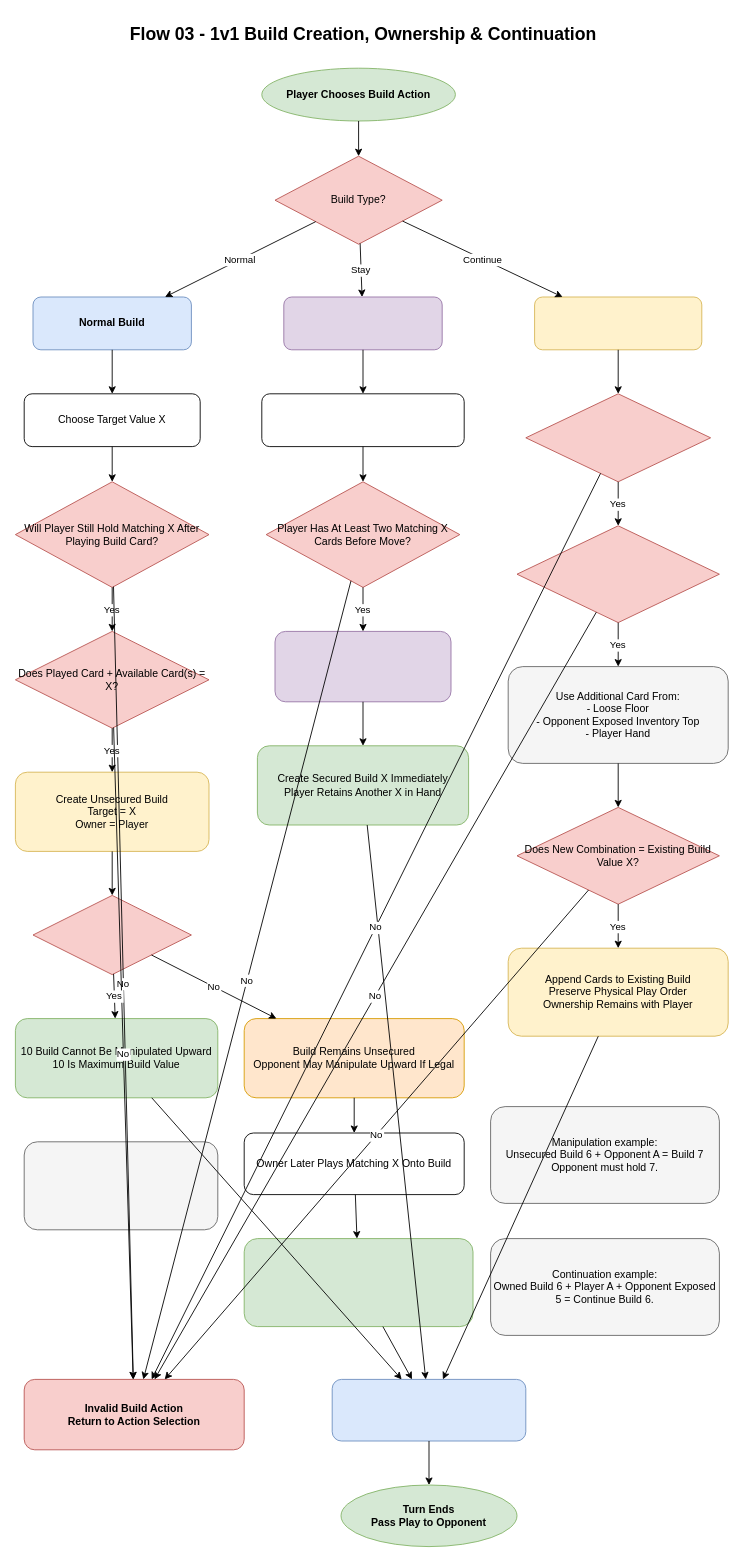
The diagram is 744 pixels wide and 1562 high, and some of its shapes have lost their labels. The shapes that lost their labels are listed below. From the top down, each one's box as (x1, y1, x2, y2) in pixels, then its label:
(283, 296, 442, 350): Stay Build
(534, 296, 702, 350): Continue Existing Build
(261, 393, 464, 447): Matching Value X Exists Loose on Floor
(525, 393, 711, 482): Does Player Own Active Build X?
(516, 525, 719, 623): Does At Least One Card From Player Hand Participate?
(274, 631, 451, 702): Play X Onto Floor X Declare STAY
(32, 895, 191, 975): Is X = 10?
(23, 1141, 218, 1230): Normal build example: Floor 5 + Player A = Build 6 Player must still hold a 6.
(243, 1238, 473, 1327): Build Secured Opponent Cannot Manipulate Opponent May Only Capture / Eat Legally
(331, 1379, 526, 1441): Apply Build State Update
